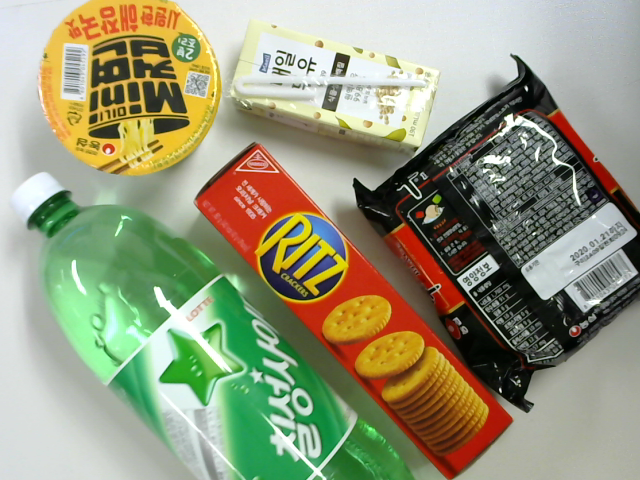99.89_Soymilk: (231, 16, 439, 152)
Chilseong_Cider_1.5L: (7, 176, 405, 480)
Hejangmini: (35, 6, 221, 182)
Ritz_Cracker: (195, 142, 513, 474)
Sinramen_Black: (351, 60, 640, 409)
